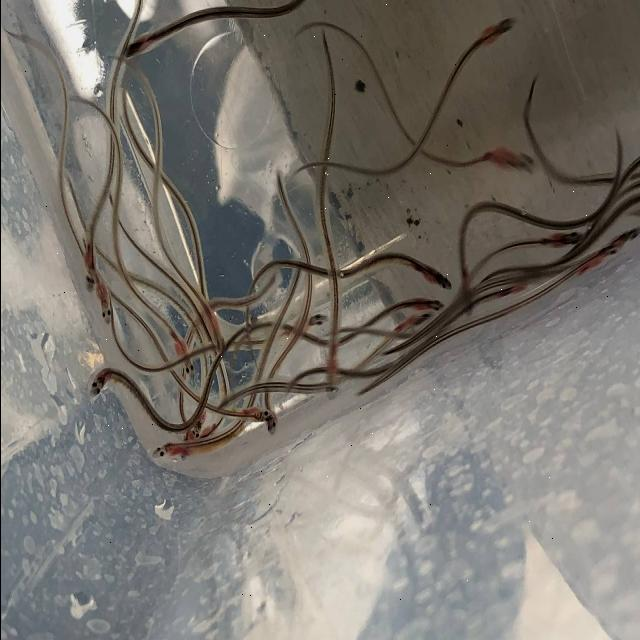glass_eel: (480, 144, 534, 176), (476, 13, 518, 48), (416, 258, 452, 294), (320, 346, 342, 402), (170, 332, 194, 377), (122, 32, 156, 62), (259, 396, 279, 442), (95, 277, 112, 330), (238, 401, 274, 426), (81, 244, 99, 294), (297, 307, 329, 335), (582, 245, 620, 268), (459, 270, 476, 320), (544, 230, 586, 250), (86, 366, 110, 401), (406, 296, 444, 318), (398, 312, 432, 336), (147, 437, 180, 461), (208, 311, 225, 357), (188, 412, 208, 446), (178, 428, 195, 466), (612, 226, 640, 248)
